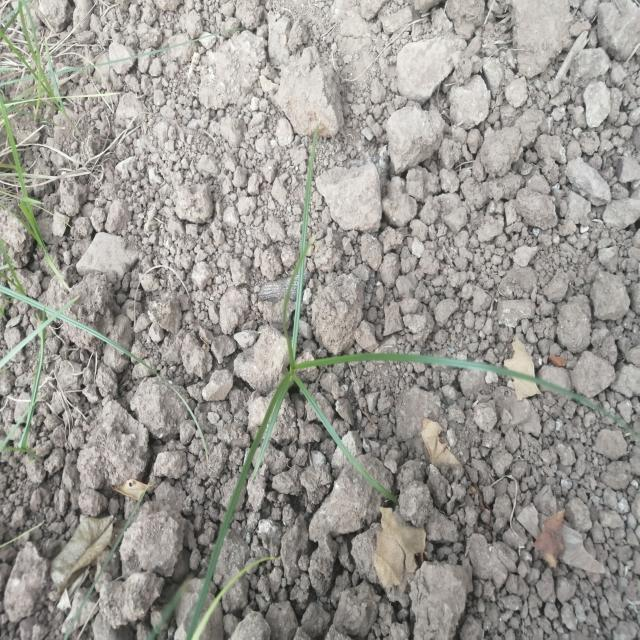sedge: (142, 172, 566, 590)
